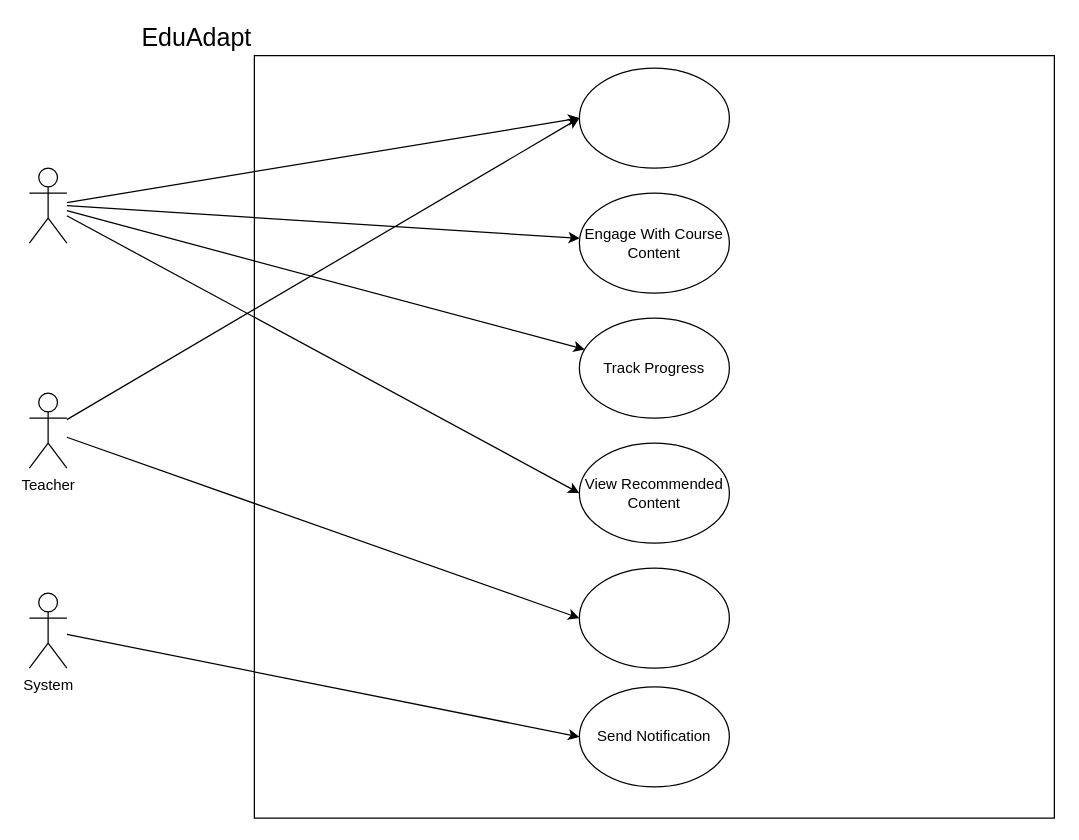
This 1079x840 diagram has some shape labels left out. The shapes that lost their labels are listed below. From the top down, each one's centre as x and y in pixels, then its label:
At point 653,117: "Register/Log in".
At point 47,205: "Student".
At point 653,617: "Monitor Student Performance".
